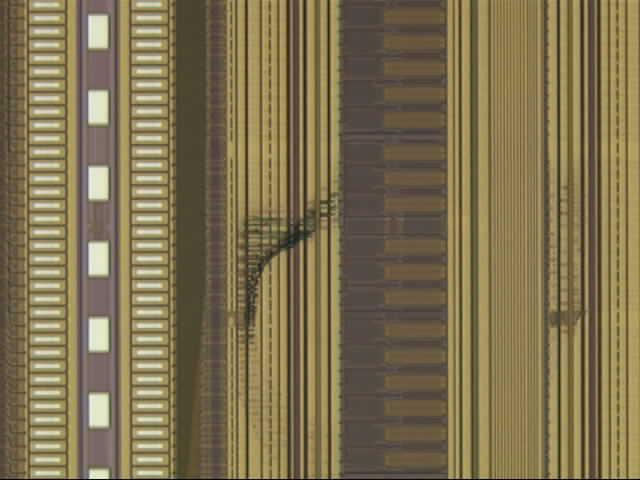PO CONTAMINATION: (229, 182, 592, 354)
